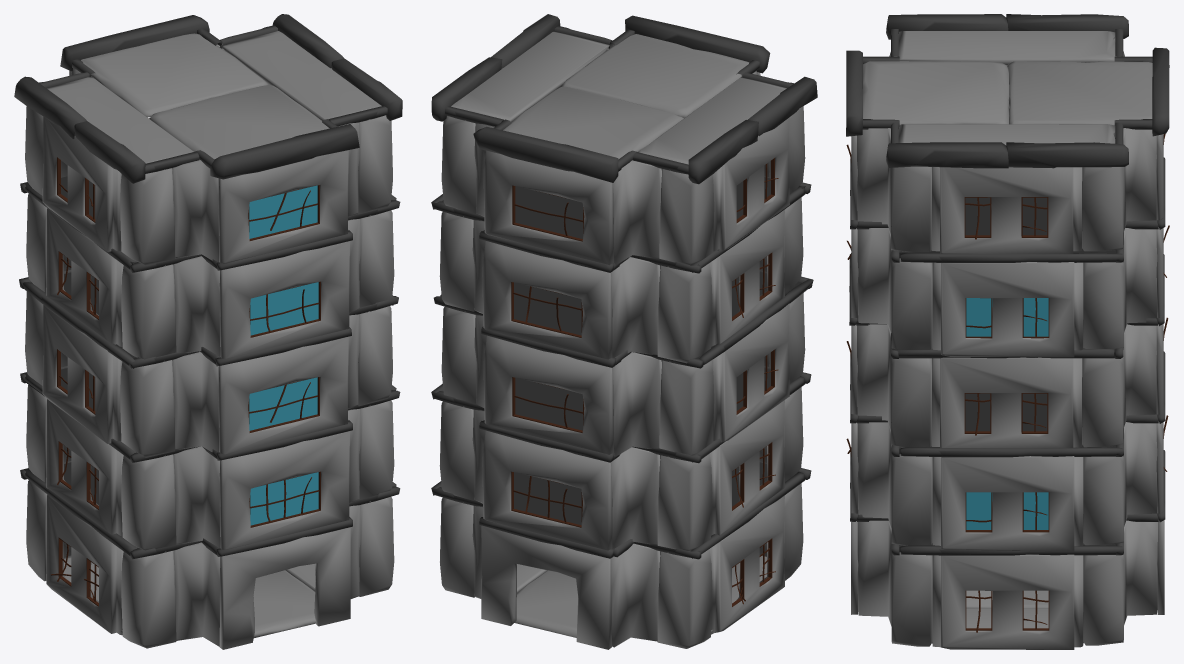
Rendered from SM_building_ruins_09.fbx.
3 renders of one model, left to right at view 1: azimuth 30°, elevation 25°; view 2: azimuth 150°, elevation 25°; view 3: azimuth 270°, elevation 25°, orthographic. The views are drawn at different scales.
Parts seen in each view (by area): view 1: Object089; view 2: Object089; view 3: Object089.
Boxes of the visible parts, box(x1,y1,x2,y2) form: Object089: box(14, 14, 402, 649); Object089: box(431, 14, 817, 649); Object089: box(846, 14, 1169, 649).
Bounding box in the file's own units: 433 × 724 × 423.
